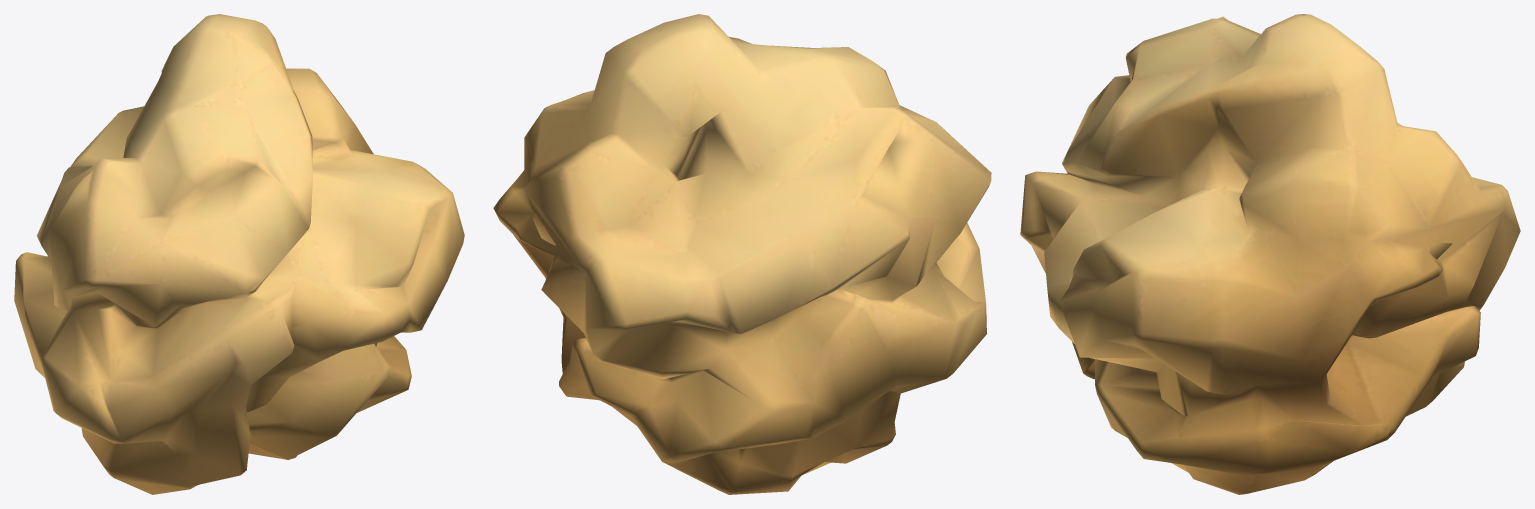
Rendered from crumpled-paper.glb.
3 views of the same model, side by side, from view 1: azimuth 30°, elevation 25°; view 2: azimuth 150°, elevation 25°; view 3: azimuth 270°, elevation 25° (orthographic). The views are drawn at different scales.
Visible parts, largest first — view 1: tripo_node_3e2c4d24-82a4-4620-987e-cb555c3575c2; view 2: tripo_node_3e2c4d24-82a4-4620-987e-cb555c3575c2; view 3: tripo_node_3e2c4d24-82a4-4620-987e-cb555c3575c2.
Part boxes in pixels (x1=…): tripo_node_3e2c4d24-82a4-4620-987e-cb555c3575c2: x1=14, y1=14, x2=464, y2=494; tripo_node_3e2c4d24-82a4-4620-987e-cb555c3575c2: x1=493, y1=14, x2=991, y2=494; tripo_node_3e2c4d24-82a4-4620-987e-cb555c3575c2: x1=1020, y1=14, x2=1520, y2=494.
Bounding box in the file's own units: 0.9864 × 0.998 × 0.9825.
1 material, 1 textured.
